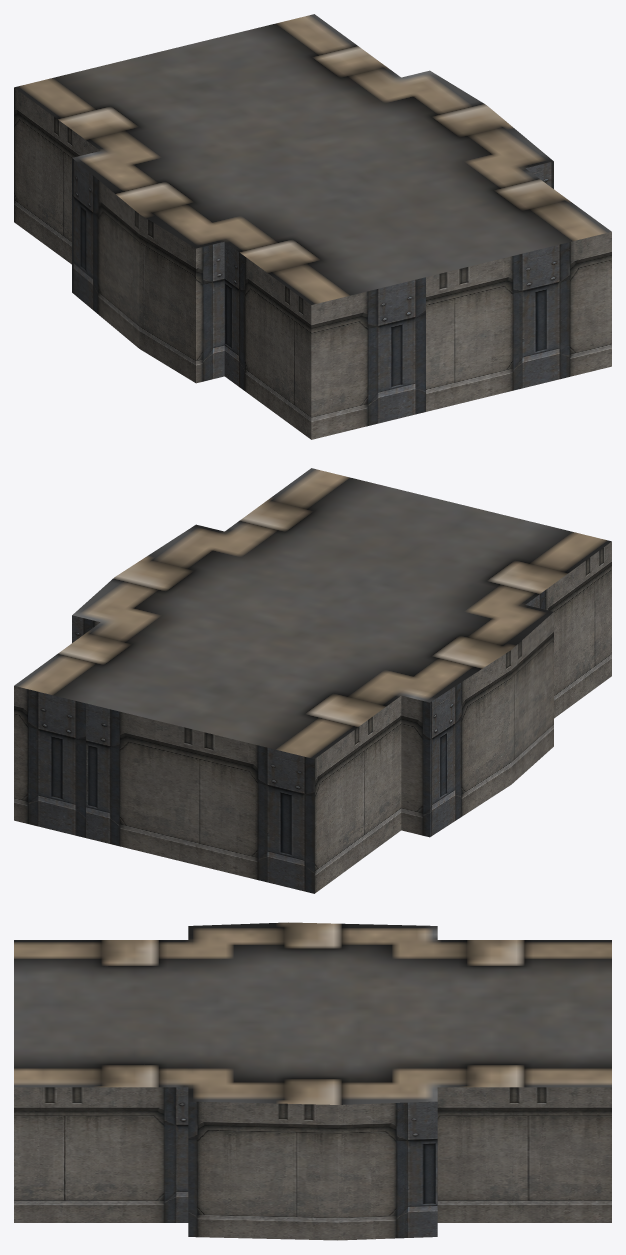
The model's file is building_heavy_09.glb.
3 renders of one model, top to bottom at view 1: azimuth 30°, elevation 25°; view 2: azimuth 150°, elevation 25°; view 3: azimuth 270°, elevation 25°, orthographic.
Parts seen in each view (by area): view 1: buildings/saxarba/building_heavy/building_heavy_09; view 2: buildings/saxarba/building_heavy/building_heavy_09; view 3: buildings/saxarba/building_heavy/building_heavy_09.
Part boxes in pixels (box(x1,y1,x2,y2)): buildings/saxarba/building_heavy/building_heavy_09: box(14, 14, 611, 439); buildings/saxarba/building_heavy/building_heavy_09: box(14, 468, 611, 893); buildings/saxarba/building_heavy/building_heavy_09: box(14, 922, 611, 1240).
Size of the model in its own units: 52 by 18 by 72.
